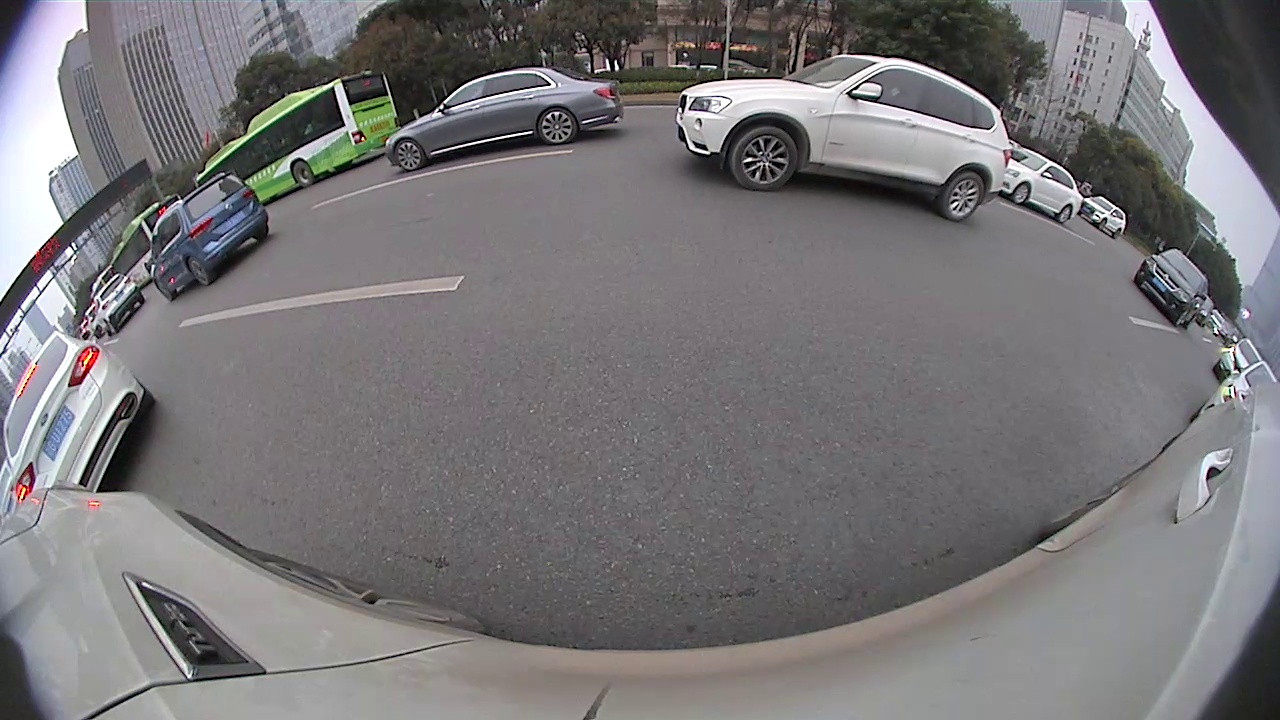bus: (192, 66, 401, 206)
car: (673, 52, 1010, 227), (387, 61, 627, 176), (2, 330, 158, 496), (143, 167, 270, 303), (1003, 143, 1084, 227), (1134, 245, 1213, 331)
front: (730, 125, 799, 191), (393, 139, 426, 172), (1011, 181, 1028, 206)
rear: (939, 170, 986, 223), (538, 105, 579, 147), (188, 256, 212, 288), (293, 159, 316, 187), (1055, 204, 1073, 227)
